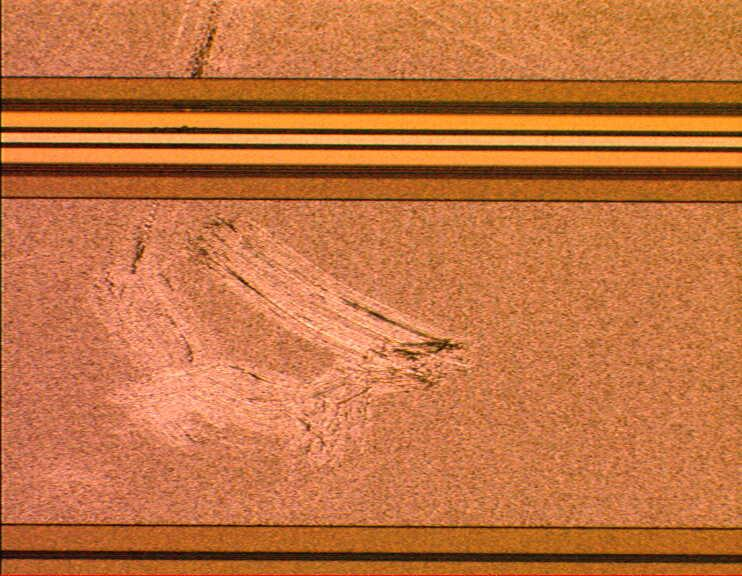SCRATCH: (84, 2, 485, 476)
